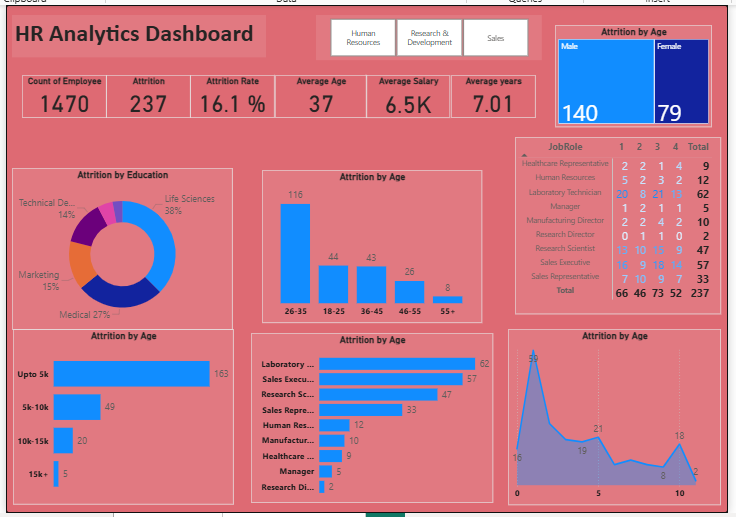

What the dashboard file says about the page in this screenshot:
{"tool":"powerbi","page":{"name":"HR Analytics","canvas":[1280,900],"ordinal":0},"visuals":[{"type":"card","title":"Count of Employee","fields":{"Values":["CountNonNull(HR_Analytics.EmpID)"]},"box":[27.8,123.6,149.5,75.6],"z":0},{"type":"card","title":"Attrition","fields":{"Values":["Sum(HR_Analytics.Attrition Count)"]},"box":[177.3,123.6,149.5,75.6],"z":1000},{"type":"card","title":"Average years","fields":{"Values":["Avg(HR_Analytics.YearsAtCompany)"]},"box":[788.7,123.6,149.5,75.6],"z":2000},{"type":"card","title":"Average Salary","fields":{"Values":["Avg(HR_Analytics.MonthlyIncome)"]},"box":[638.7,123.4,149.4,76.4],"z":3000},{"type":"card","title":"Average Age","fields":{"Values":["Avg(HR_Analytics.Age)"]},"box":[476.3,123.6,162.9,75.6],"z":4000},{"type":"card","title":"Attrition Rate","fields":{"Values":["HR_Analytics.Attrition Rate"]},"box":[326.8,123.6,149.5,75.6],"z":5000},{"type":"donutChart","title":"Attrition by Education","fields":{"Category":["HR_Analytics.EducationField"],"Y":["Sum(HR_Analytics.Attrition Count)"]},"box":[10.4,288.4,390.9,286.7],"z":6000},{"type":"columnChart","title":"Attrition by Age","fields":{"Category":["HR_Analytics.AgeGroup"],"Y":["Sum(HR_Analytics.Attrition Count)"]},"box":[453.5,292.3,389.8,271.1],"z":7000},{"type":"pivotTable","fields":{"Rows":["HR_Analytics.JobRole"],"Columns":["HR_Analytics.JobSatisfaction"],"Values":["Sum(HR_Analytics.Attrition Count)"]},"box":[902.3,233.9,364.9,314.5],"z":8000},{"type":"clusteredBarChart","title":"Attrition by Age","fields":{"Category":["HR_Analytics.SalarySlab"],"Y":["Sum(HR_Analytics.Attrition Count)"]},"box":[12.7,574.4,390.9,311],"z":9000},{"type":"clusteredBarChart","title":"Attrition by Age","fields":{"Y":["Sum(HR_Analytics.Attrition Count)"],"Category":["HR_Analytics.JobRole"]},"box":[433.7,580.3,429.2,300.6],"z":10000},{"type":"areaChart","title":"Attrition by Age","fields":{"Category":["HR_Analytics.YearsAtCompany"],"Y":["Sum(HR_Analytics.Attrition Count)"]},"box":[890.1,574.4,389.2,311],"z":11000},{"type":"treemap","title":"Attrition by Age","fields":{"Group":["HR_Analytics.Gender"],"Values":["Sum(HR_Analytics.Attrition Count)"]},"box":[973,34.7,278,180.7],"z":12000},{"type":"slicer","fields":{"Values":["HR_Analytics.Department"]},"box":[550,17,400,80],"z":13000},{"type":"textbox","box":[10,17,450,75],"z":14000}]}

Visuals, with their boxes on the page's 1280x900 design canvas (x1, y1, x2, y2). These are canvas units, not pixel positions in the 736x517 screenshot, which may show the page scaled, cropped or inside an application window:
"Count of Employee" card: pyautogui.locateOnScreen(28, 124, 177, 199)
"Attrition" card: pyautogui.locateOnScreen(177, 124, 327, 199)
"Average years" card: pyautogui.locateOnScreen(789, 124, 938, 199)
"Average Salary" card: pyautogui.locateOnScreen(639, 123, 788, 200)
"Average Age" card: pyautogui.locateOnScreen(476, 124, 639, 199)
"Attrition Rate" card: pyautogui.locateOnScreen(327, 124, 476, 199)
"Attrition by Education" donutChart: pyautogui.locateOnScreen(10, 288, 401, 575)
"Attrition by Age" columnChart: pyautogui.locateOnScreen(454, 292, 843, 563)
pivotTable - HR_Analytics.JobRole x HR_Analytics.JobSatisfaction: pyautogui.locateOnScreen(902, 234, 1267, 548)
"Attrition by Age" clusteredBarChart: pyautogui.locateOnScreen(13, 574, 404, 885)
"Attrition by Age" clusteredBarChart: pyautogui.locateOnScreen(434, 580, 863, 881)
"Attrition by Age" areaChart: pyautogui.locateOnScreen(890, 574, 1279, 885)
"Attrition by Age" treemap: pyautogui.locateOnScreen(973, 35, 1251, 215)
slicer - HR_Analytics.Department: pyautogui.locateOnScreen(550, 17, 950, 97)
textbox: pyautogui.locateOnScreen(10, 17, 460, 92)
